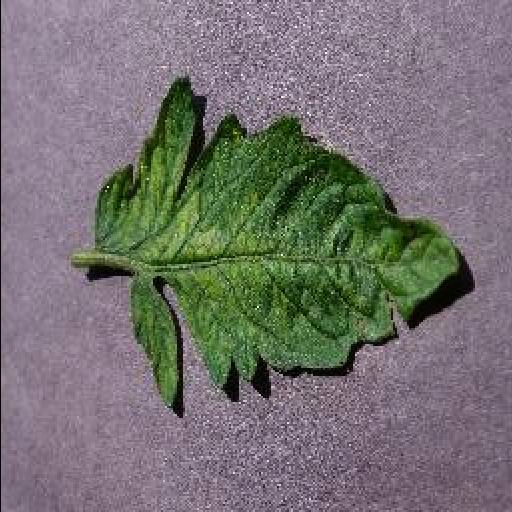disease_tomato: (94, 78, 466, 412)
